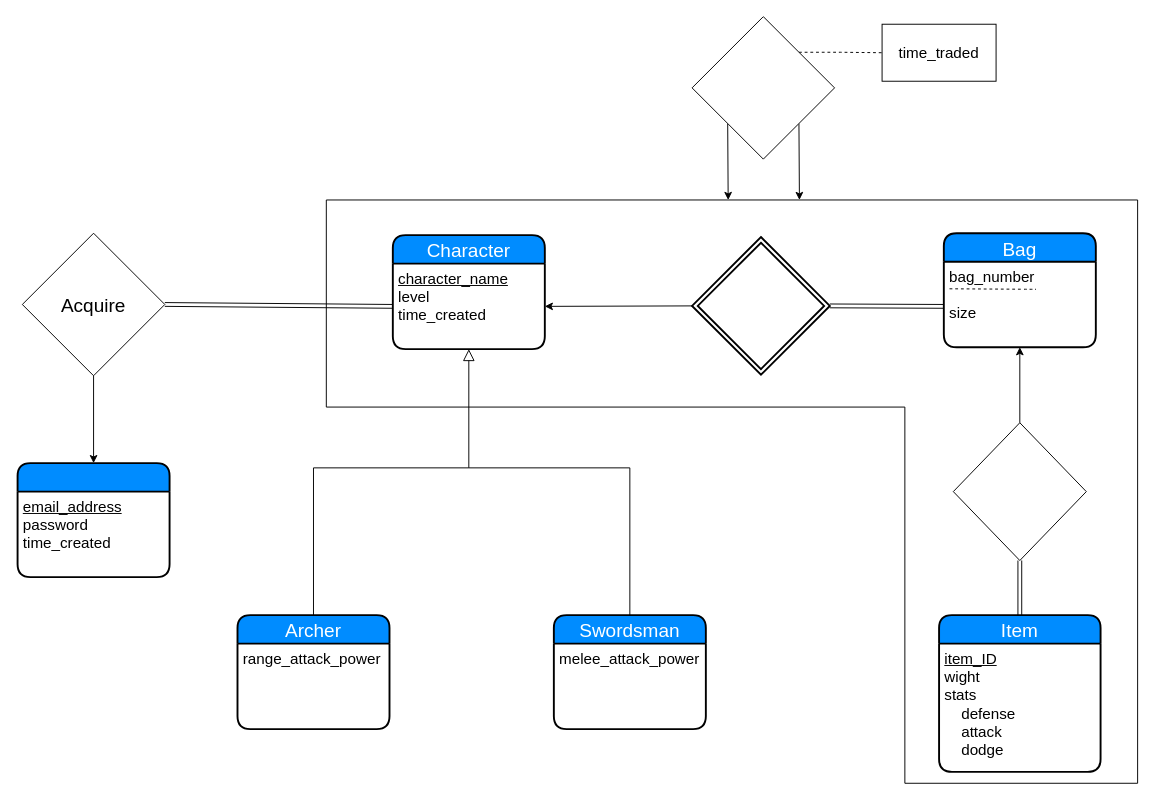
Some shapes in this 1154 by 800 pixel diagram are drawn without their labels. Here are the shapes that lost their labels. From the top down, the box of each, then its label:
(691, 16, 835, 159): Trade
(691, 236, 830, 375): Has
(952, 422, 1086, 560): Contain
(16, 462, 170, 578): User
